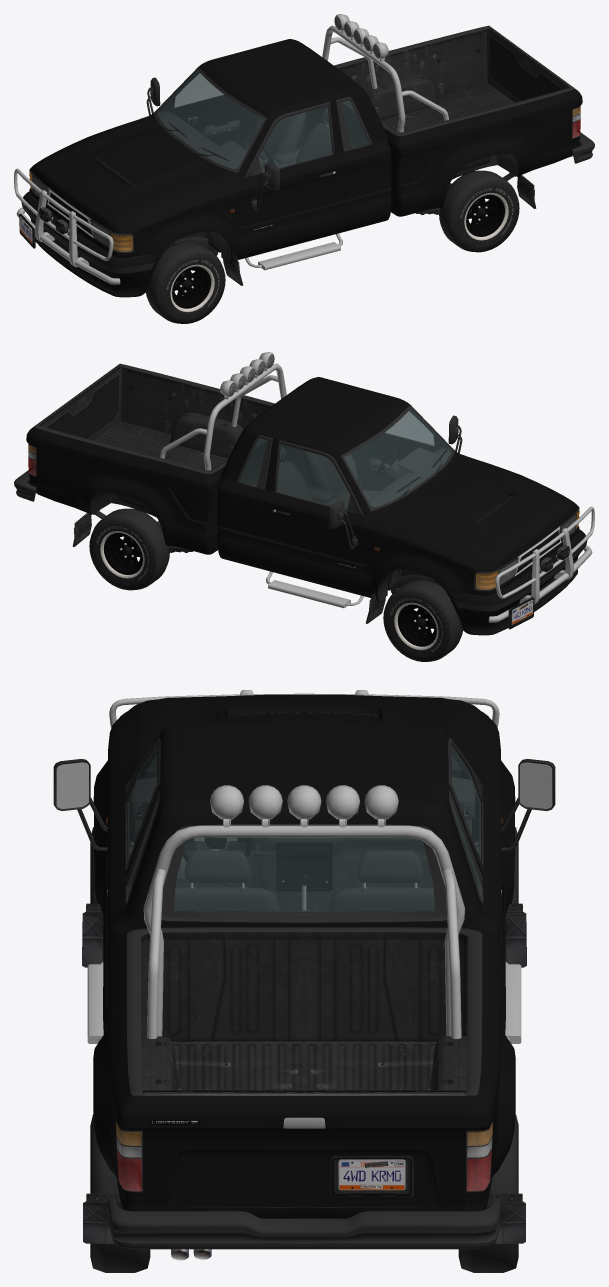
File: krmlgtbdy.fbx
The picture shows the model from 3 angles, top to bottom: view 1: azimuth 30°, elevation 25°; view 2: azimuth 150°, elevation 25°; view 3: azimuth 270°, elevation 25°; orthographic projection. The views are drawn at different scales.
Visible parts, largest first — view 1: Body, Trunkbed, Hood, Fender_FL, Door_FL, Windshield, Wheel_RL, Wheel_FL, Bottom, Trunk_door_inner, Bumper_Front, Doorglass_FL (+18 smaller); view 2: Body, Trunkbed, Hood, Fender_FR, Door_FR, Windshield, Wheel_RR, Wheel_FR, Bottom, Trunk_door_inner, Doorglass_FR, Bumper_front_bars (+18 smaller); view 3: Trunkbed, Body, Trunkdoor, Glass_Rear, Bumper_Rear, Rollbar_Trunkbed, Bottom, Dashboard, Hood, Fender_FL, Fender_FR, Interior (+22 smaller).
Boxes of the visible parts, x1,y1,x2,y2 form: Body: (36,39,582,257); Trunkbed: (334,25,574,135); Hood: (37,120,221,227); Fender_FL: (105,169,248,263); Door_FL: (244,152,347,253); Windshield: (156,70,264,168); Wheel_RL: (439,170,519,252); Wheel_FL: (145,242,225,323); Bottom: (52,67,536,257); Trunk_door_inner: (486,27,572,102); Bumper_Front: (22,191,161,297); Doorglass_FL: (258,106,332,172); Body: (26,377,572,595); Trunkbed: (34,363,274,473); Hood: (387,458,571,565); Fender_FR: (360,507,503,601); Door_FR: (260,490,364,591); Windshield: (344,408,451,506); Wheel_RR: (89,508,169,590); Wheel_FR: (383,580,463,661); Bottom: (72,405,556,595); Trunk_door_inner: (37,365,122,440); Doorglass_FR: (276,444,350,510); Bumper_front_bars: (488,506,594,629); Trunkbed: (126,927,482,1207); Body: (93,719,515,1218); Trunkdoor: (142,1095,466,1206); Glass_Rear: (174,837,434,911); Bumper_Rear: (107,1198,501,1249); Rollbar_Trunkbed: (143,785,464,1038); Bottom: (83,768,525,1243); Dashboard: (131,777,475,891); Hood: (162,694,446,729); Fender_FL: (94,698,167,914); Fender_FR: (441,698,514,914); Interior: (129,748,479,910).
Bounding box in the file's own units: 194 × 84.29 × 75.52.
